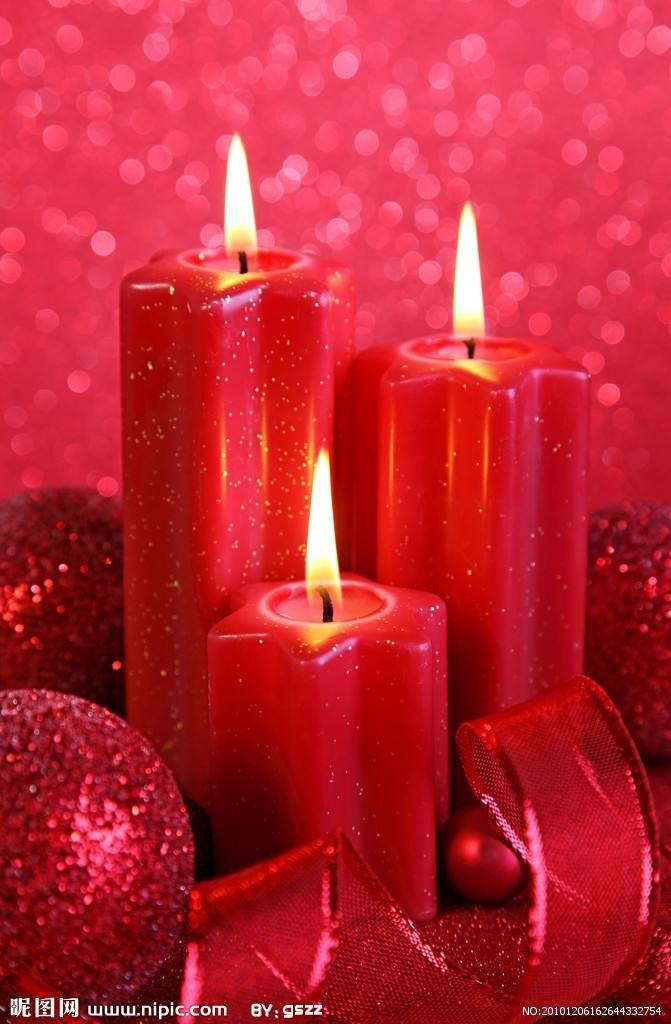fire: (300, 440, 338, 593), (221, 129, 258, 254), (451, 197, 483, 332)
